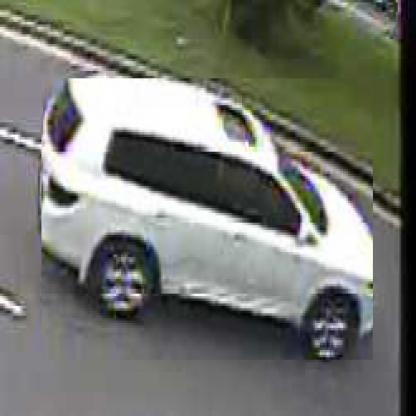car: (43, 79, 376, 363)
